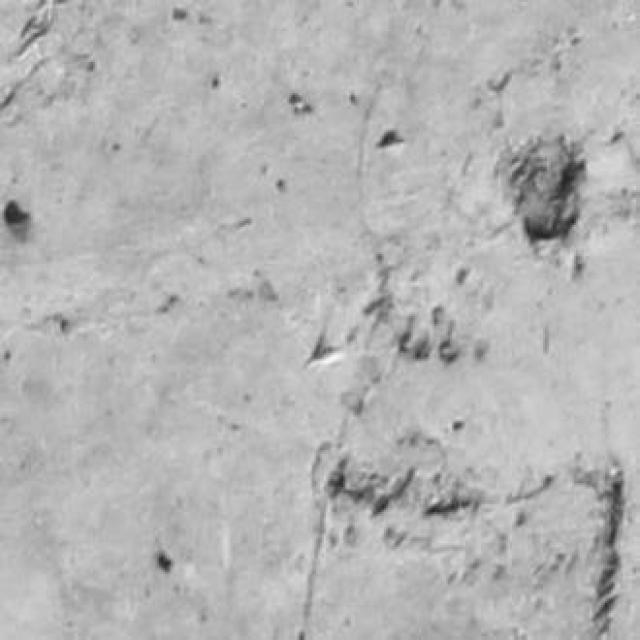crack: (592, 462, 624, 638)
